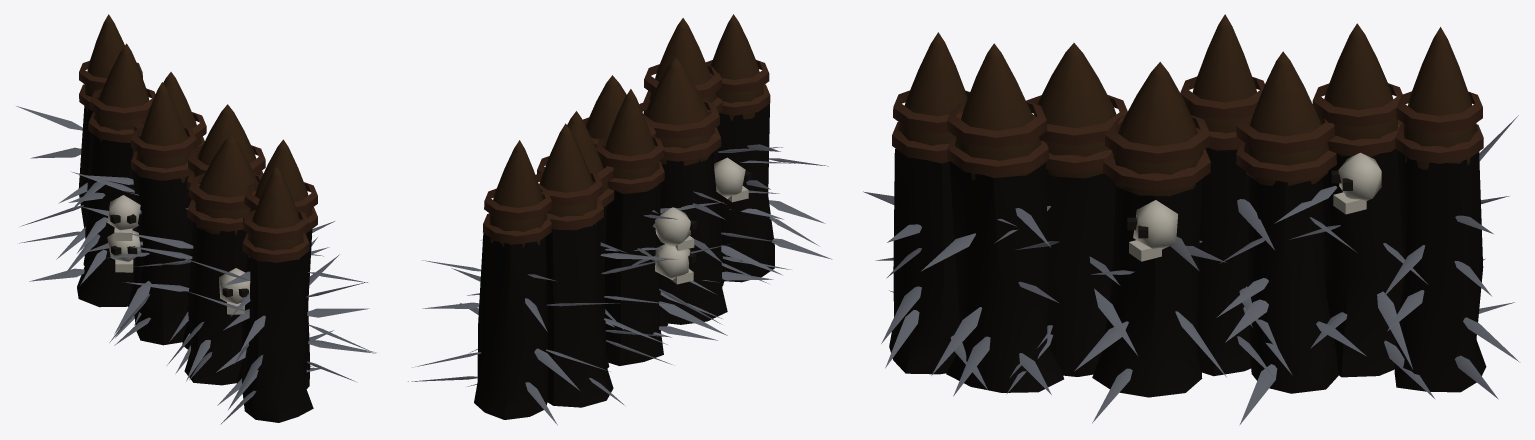
The model's file is TarPRWall01.glb.
3 views of the same model, side by side, from view 1: azimuth 30°, elevation 25°; view 2: azimuth 150°, elevation 25°; view 3: azimuth 270°, elevation 25° (orthographic). The views are drawn at different scales.
Visible parts, largest first — view 1: pal_body; view 2: pal_body; view 3: pal_body.
Part boxes in pixels (box(x1,y1,x2,y2)): pal_body: box(16, 14, 376, 424); pal_body: box(408, 14, 832, 425); pal_body: box(863, 14, 1520, 425).
Bounding box in the file's own units: 3.39 × 4.3 × 7.34.
